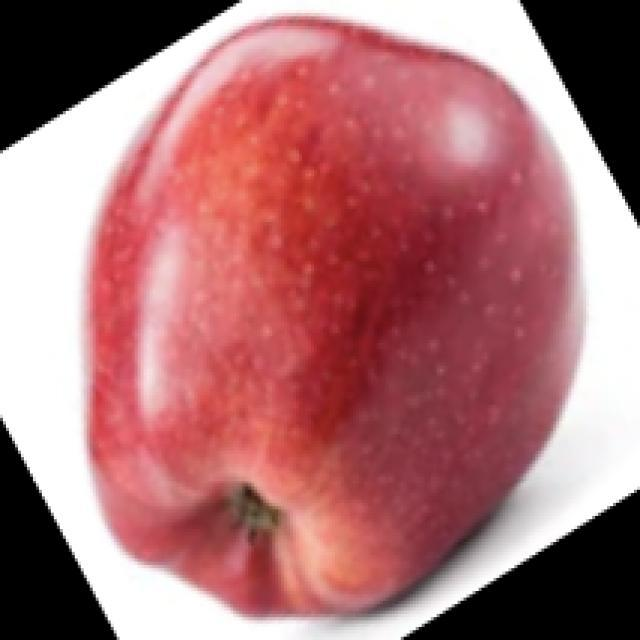Fresh Apple: (120, 26, 575, 562)
